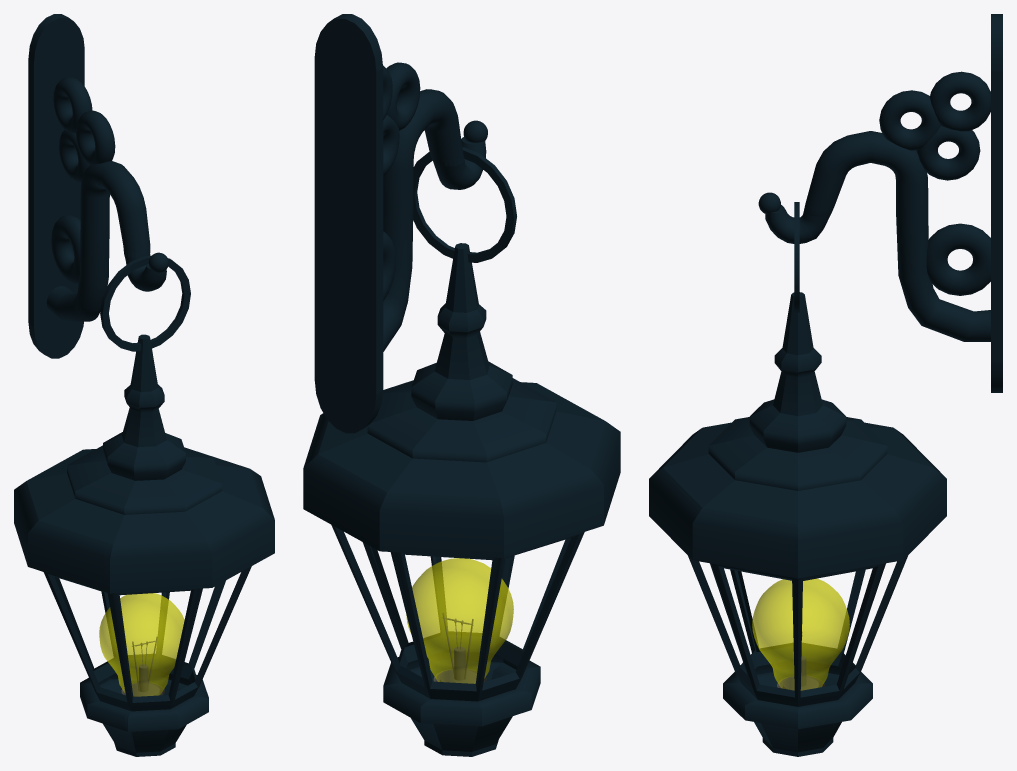
File: Wandlaterne Einzeln.fbx
The picture shows the model from 3 angles, left to right: view 1: azimuth 30°, elevation 25°; view 2: azimuth 150°, elevation 25°; view 3: azimuth 270°, elevation 25°; orthographic projection. The views are drawn at different scales.
Visible parts, largest first — view 1: WandlaterneCombined:polySurface14; view 2: WandlaterneCombined:polySurface14; view 3: WandlaterneCombined:polySurface14.
Boxes of the visible parts, box(x1,y1,x2,y2) form: WandlaterneCombined:polySurface14: box(14, 14, 274, 756); WandlaterneCombined:polySurface14: box(303, 14, 620, 756); WandlaterneCombined:polySurface14: box(649, 14, 1002, 756).
Size of the model in its own units: 52.02 by 141 by 62.16.
